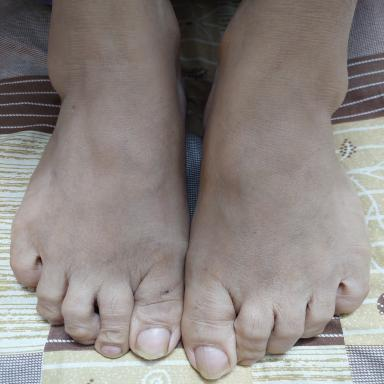normal skin: (10, 0, 370, 379)
